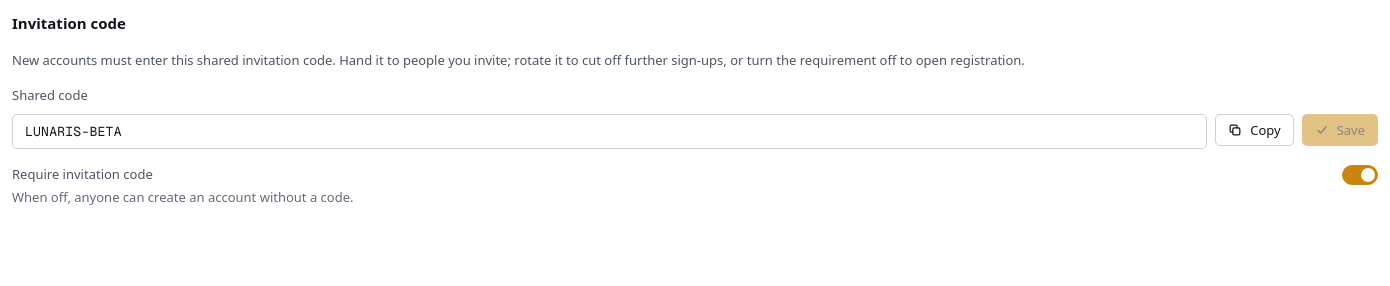
InviteGateSection › rotates the code: edits the field, saves, and confirms the new value
Replace the text in the field labelled "Shared code" with "AUTUMN-2026". click: (610, 131)
box: [12,114,1207,148]
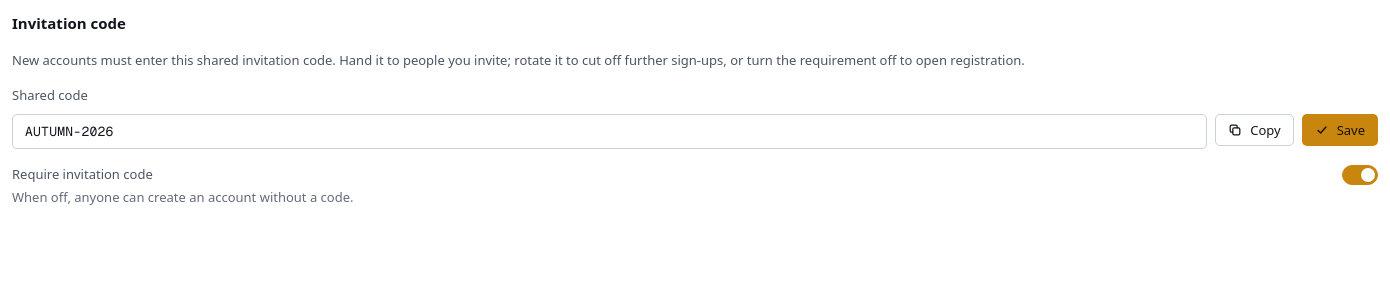
Click the button with aria-label "Save code". click: click(1340, 130)
box: [1302,114,1378,146]
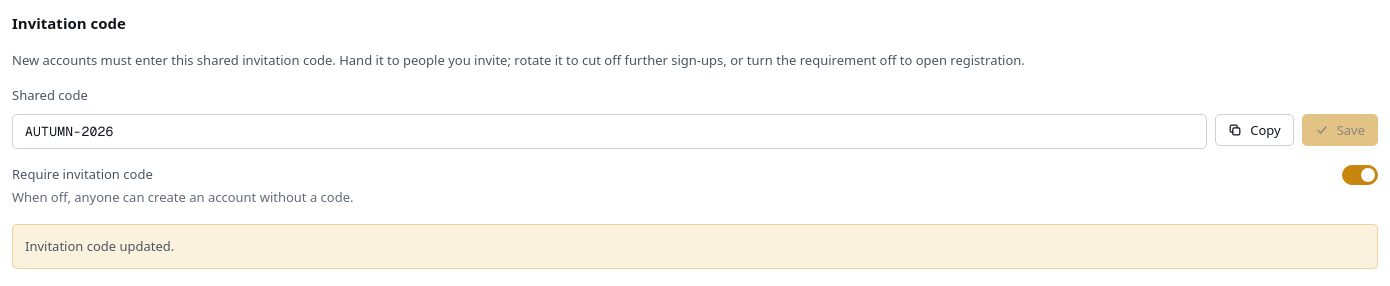
Expected: the text "Invitation code updated." is shown, [12,224,1378,269]
Expected: the button with aria-label "Save code" is disabled, [1302,114,1378,146]
